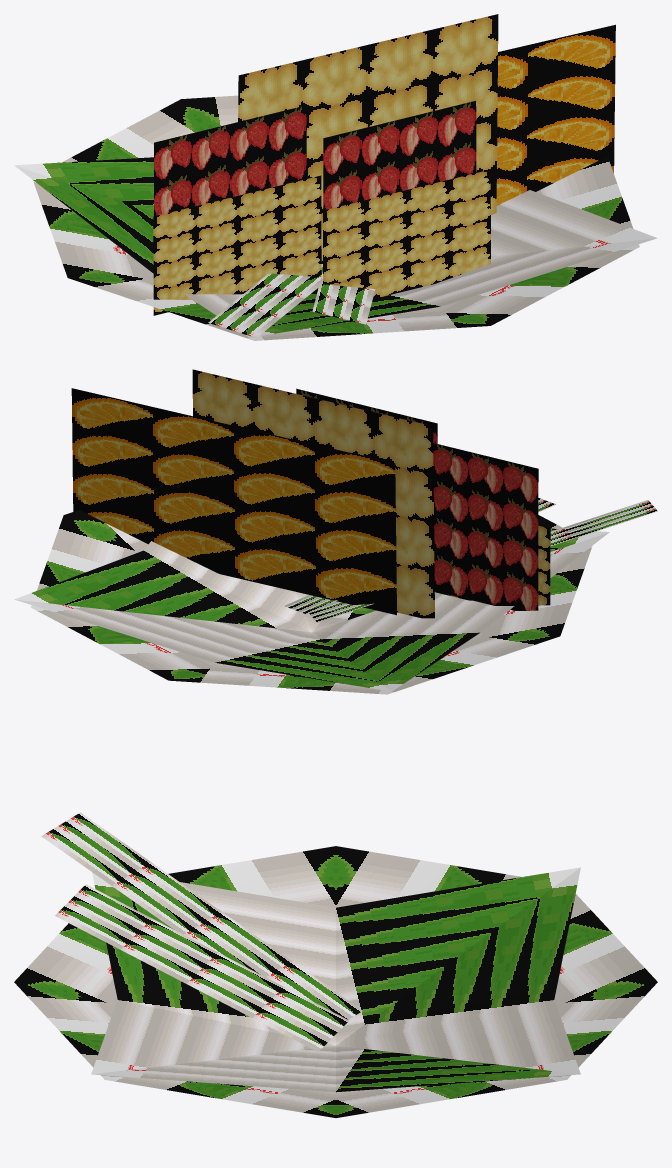
The model's file is 5541u_tnpr00_ls.gltf.
3 renders of one model, top to bottom at view 1: azimuth 30°, elevation 25°; view 2: azimuth 150°, elevation 25°; view 3: azimuth 270°, elevation 25°, orthographic. The views are drawn at different scales.
Parts seen in each view (by area): view 1: 5541u_tnpr00_ls; view 2: 5541u_tnpr00_ls; view 3: 5541u_tnpr00_ls.
Part boxes in pixels (x1,y1,x2,y2): 5541u_tnpr00_ls: (14, 14, 657, 340); 5541u_tnpr00_ls: (14, 369, 657, 694); 5541u_tnpr00_ls: (14, 812, 657, 1117).
Bounding box in the file's own units: 0.9048 × 0.395 × 0.9023.
4 materials, 4 textured.
